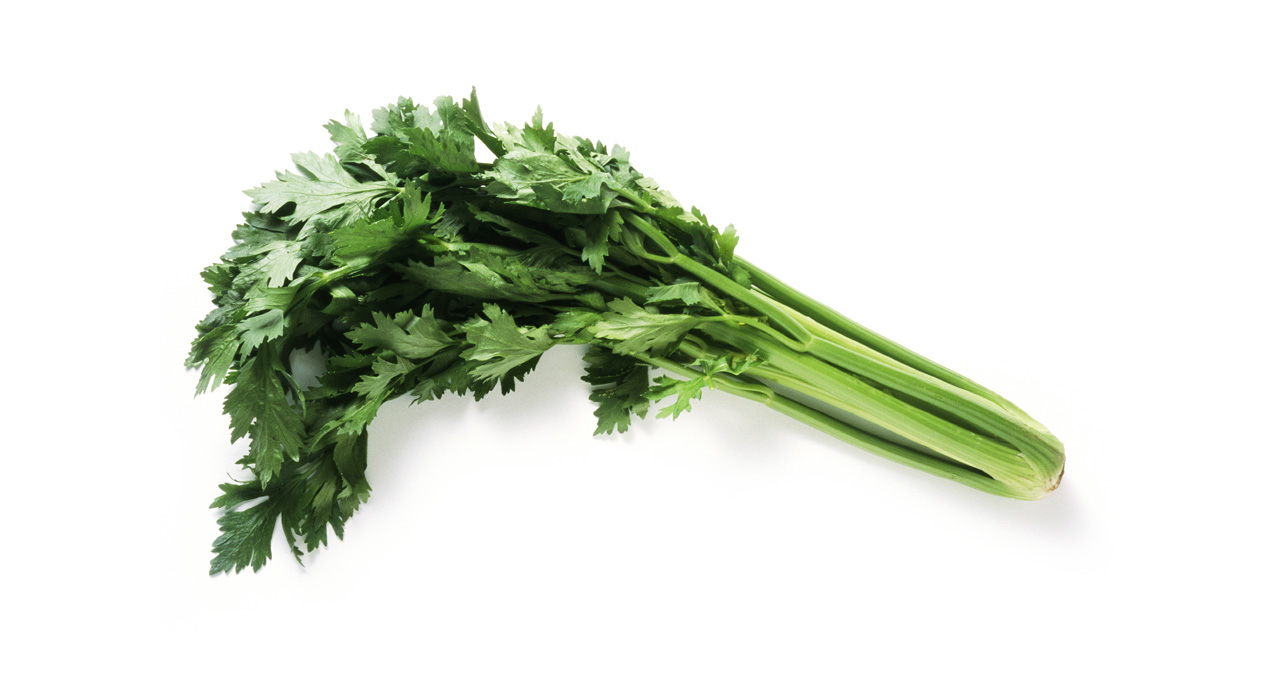Seledri: (173, 91, 1136, 598)
